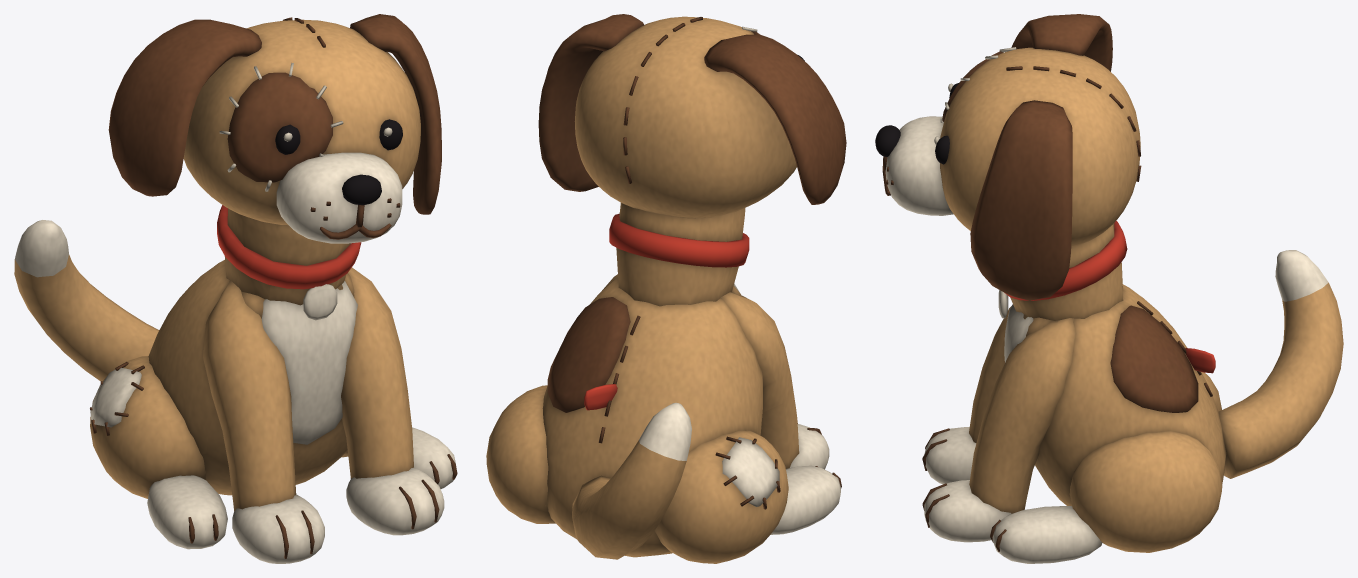
Rendered from puppy.fbx.
The picture shows the model from 3 angles, left to right: view 1: azimuth 30°, elevation 25°; view 2: azimuth 150°, elevation 25°; view 3: azimuth 270°, elevation 25°; orthographic projection. The views are drawn at different scales.
Visible parts, largest first — view 1: Puppy_Body, Puppy_Gloss; view 2: Puppy_Body; view 3: Puppy_Body, Puppy_Gloss.
Boxes of the visible parts, x1,y1,x2,y2 form: Puppy_Body: (14, 14, 457, 563); Puppy_Gloss: (275, 119, 402, 205); Puppy_Body: (486, 14, 846, 563); Puppy_Body: (882, 14, 1343, 563); Puppy_Gloss: (875, 83, 958, 164).
Size of the model in its own units: 2.12 by 3.31 by 3.08.
Materials: 2 (1 with a texture image).
